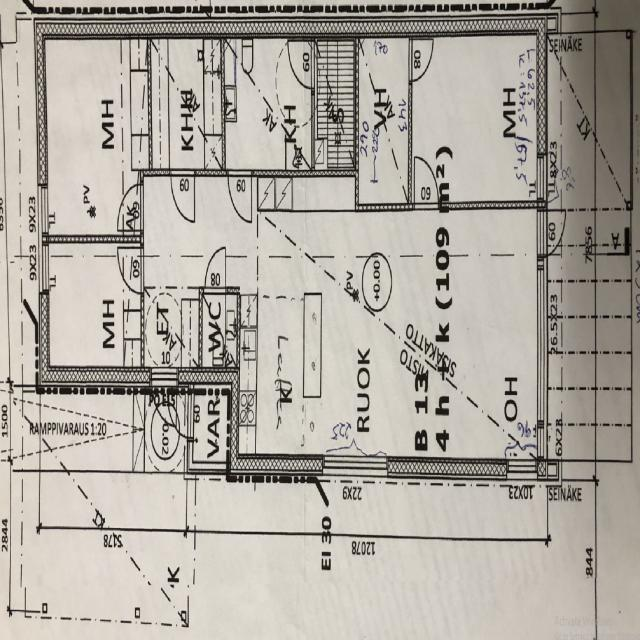door: (152, 368, 176, 435), (536, 211, 571, 256), (115, 248, 144, 294), (286, 41, 314, 88), (165, 392, 194, 437), (116, 184, 143, 230), (414, 159, 438, 210), (170, 169, 194, 220), (227, 170, 251, 220), (408, 39, 433, 81), (205, 248, 225, 293)
